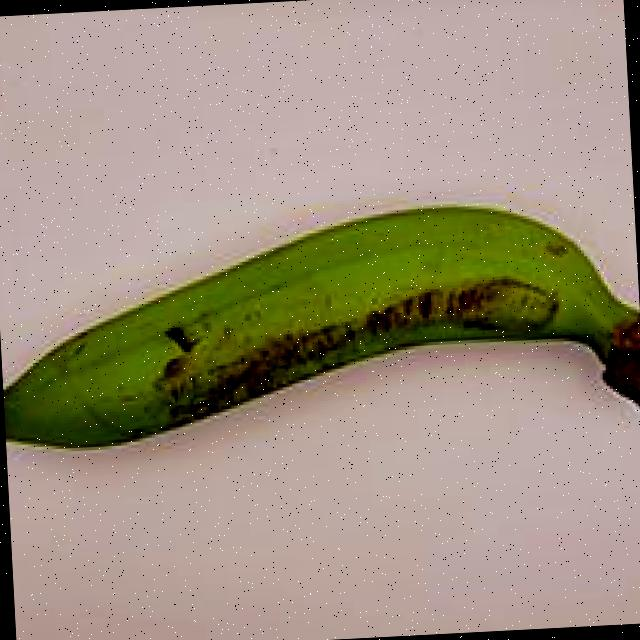Raw: (0, 138, 640, 501)
